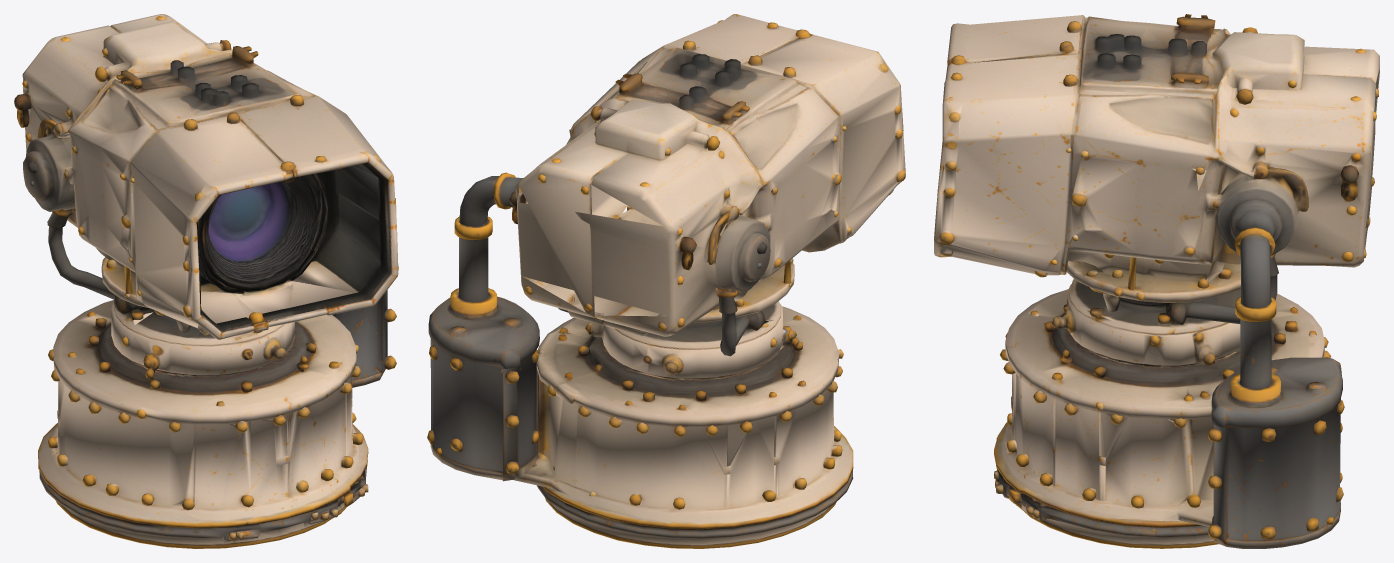
File: SM_Probe_Camera.fbx
3 renders of one model, left to right at view 1: azimuth 30°, elevation 25°; view 2: azimuth 150°, elevation 25°; view 3: azimuth 270°, elevation 25°, orthographic. The views are drawn at different scales.
Visible parts, largest first — view 1: SM_Probe_Camera; view 2: SM_Probe_Camera; view 3: SM_Probe_Camera.
Part boxes in pixels (x1=…): SM_Probe_Camera: x1=14, y1=14, x2=398, y2=548; SM_Probe_Camera: x1=427, y1=14, x2=905, y2=548; SM_Probe_Camera: x1=934, y1=14, x2=1379, y2=548.
Size of the model in its own units: 0.2372 by 0.264 by 0.2423.
1 material, 1 textured.
